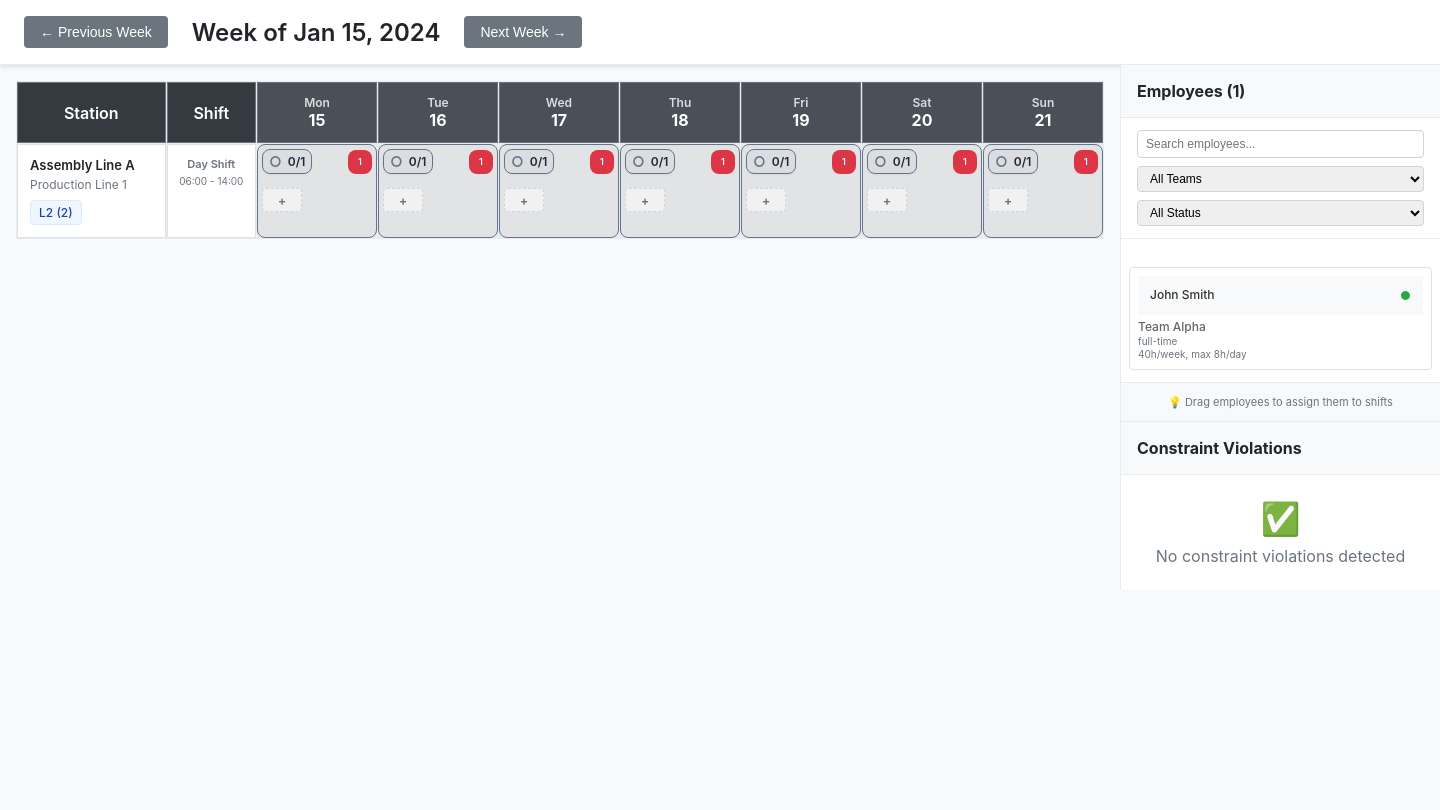
Test case: PlanningBoard › filters employees by search term
Type "John" into the field with placeholder "Search employees..." at (1280, 144), box [1137,130,1424,158]
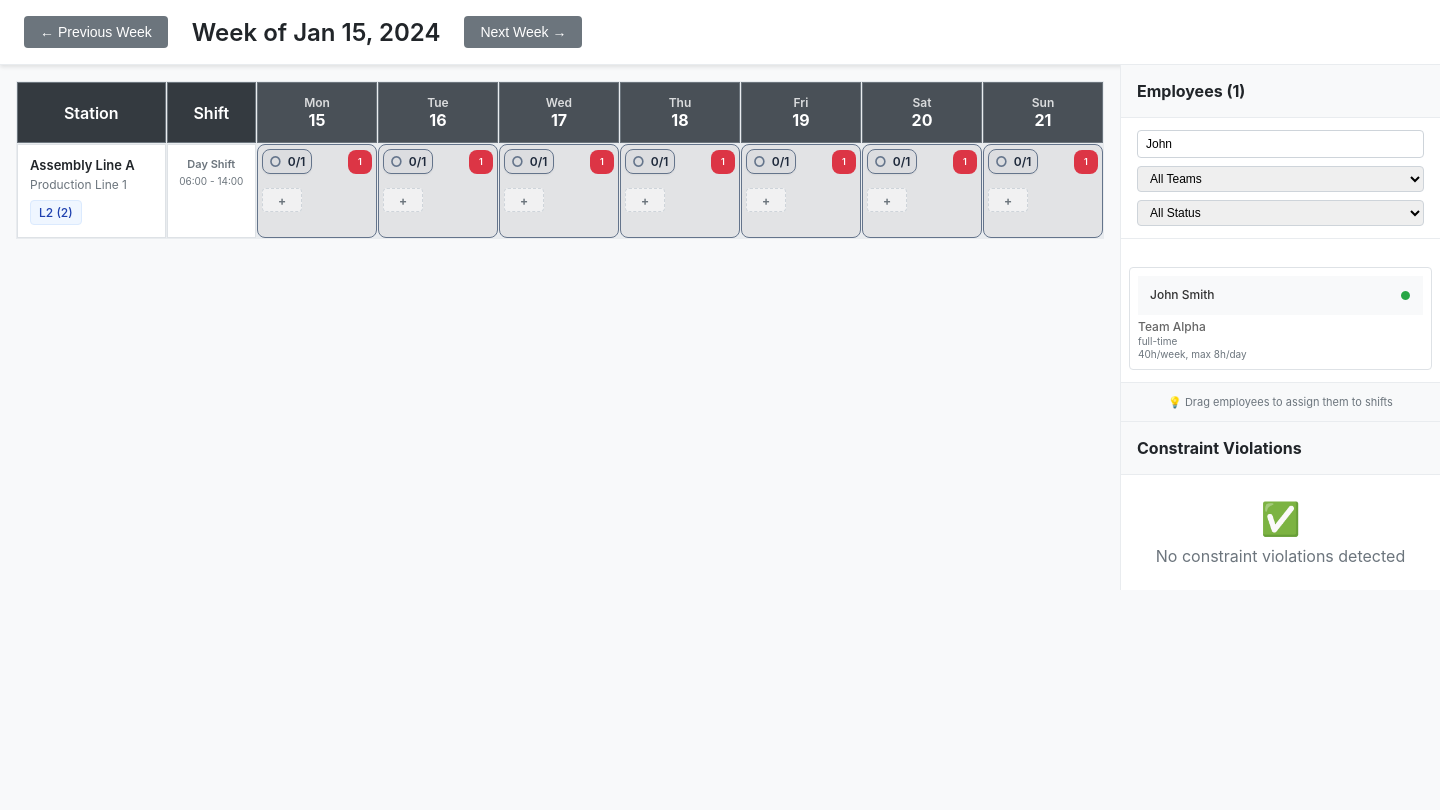
Expected: the text "John Smith" is shown, [1150,288,1214,303]
Replace the text in the field with placeholder "Search employees..." with "NonExistent" at (1280, 144), box [1137,130,1424,158]
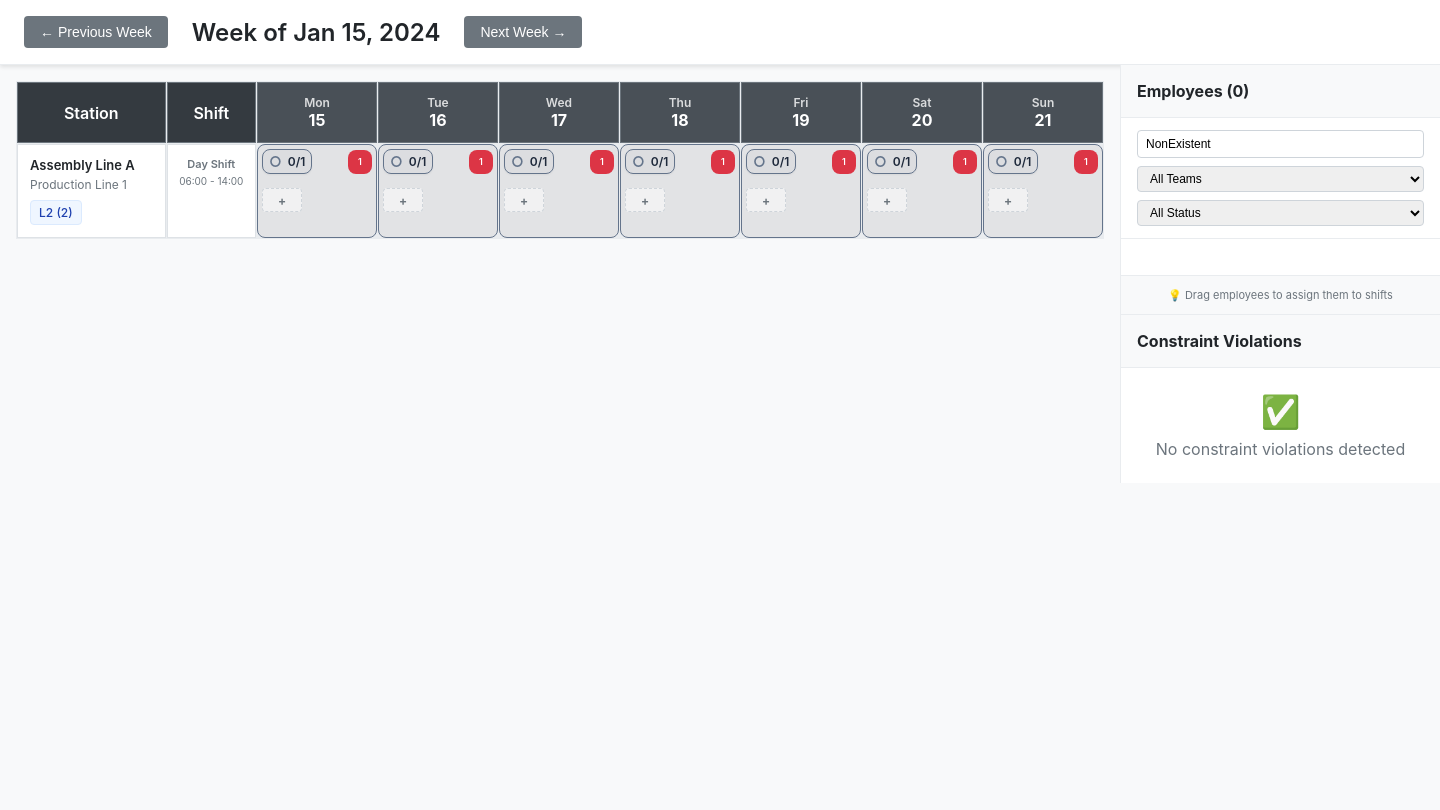
Now the text "John Smith" is gone
